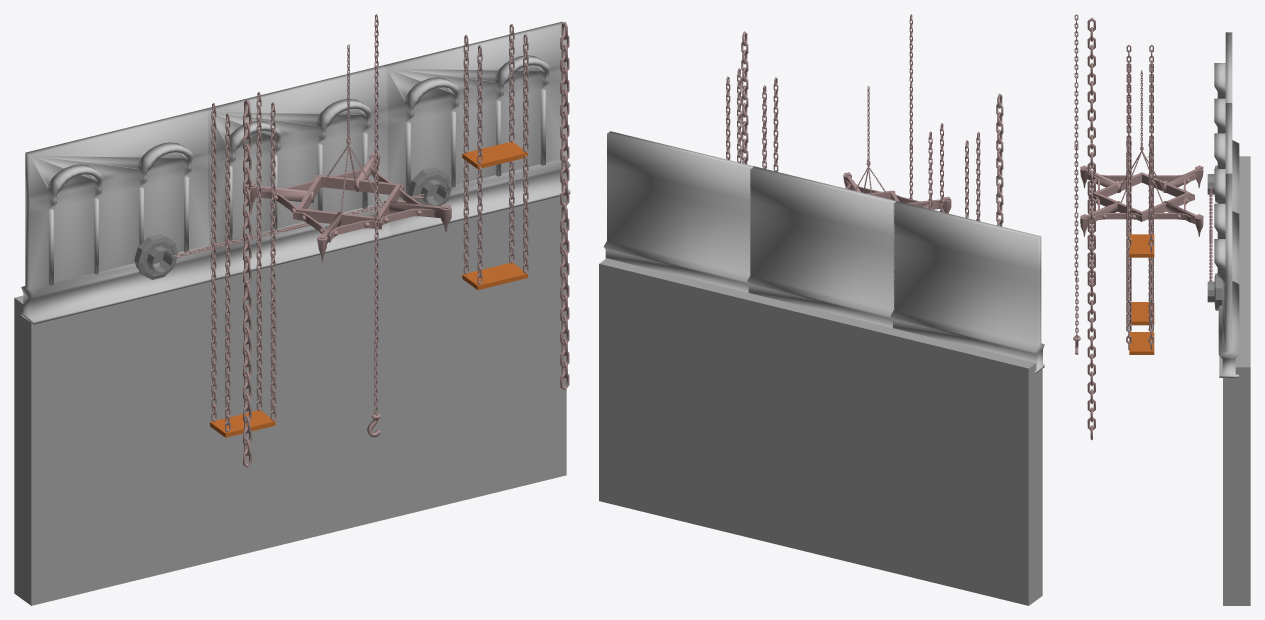
The model's file is Acid_pit_prop.fbx.
The picture shows the model from 3 angles, left to right: view 1: azimuth 30°, elevation 25°; view 2: azimuth 150°, elevation 25°; view 3: azimuth 270°, elevation 25°; orthographic projection. The views are drawn at different scales.
Parts seen in each view (by area): view 1: pCube1, Wall_prop1:polySurface1, polySurface32, polySurface31, polySurface1, polySurface14, polySurface28, polySurface13, Acid_pipe_prop:pCylinder1, polySurface17, polySurface16, polySurface15 (+2 smaller); view 2: pCube1, Wall_prop1:polySurface1, polySurface31, polySurface32, polySurface28, polySurface1, polySurface16, polySurface15; view 3: pCube1, polySurface1, polySurface32, Wall_prop1:polySurface1, polySurface31, polySurface28, polySurface13, polySurface17, polySurface16, polySurface15, polySurface14, pCylinder1 (+4 smaller).
Part boxes in pixels (left/top/right/bottom): pCube1: left=14, top=195, right=566, bottom=605; Wall_prop1:polySurface1: left=21, top=109, right=213, bottom=324; polySurface32: left=384, top=21, right=570, bottom=237; polySurface31: left=204, top=65, right=391, bottom=279; polySurface1: left=245, top=44, right=451, bottom=262; polySurface14: left=210, top=292, right=276, bottom=437; polySurface28: left=462, top=24, right=528, bottom=169; polySurface13: left=462, top=155, right=528, bottom=289; Acid_pipe_prop:pCylinder1: left=134, top=234, right=178, bottom=279; polySurface17: left=560, top=206, right=569, bottom=390; polySurface16: left=560, top=22, right=569, bottom=206; polySurface15: left=243, top=99, right=251, bottom=284; pCube1: left=599, top=258, right=1042, bottom=605; Wall_prop1:polySurface1: left=890, top=201, right=1044, bottom=373; polySurface31: left=747, top=166, right=896, bottom=327; polySurface32: left=603, top=131, right=753, bottom=292; polySurface28: left=726, top=68, right=778, bottom=171; polySurface1: left=843, top=86, right=951, bottom=213; polySurface16: left=741, top=31, right=748, bottom=164; polySurface15: left=996, top=93, right=1003, bottom=226; pCube1: left=1223, top=156, right=1250, bottom=605; polySurface1: left=1080, top=70, right=1203, bottom=236; polySurface32: left=1214, top=173, right=1239, bottom=377; Wall_prop1:polySurface1: left=1214, top=32, right=1239, bottom=213; polySurface31: left=1214, top=103, right=1239, bottom=283; polySurface28: left=1126, top=138, right=1154, bottom=257; polySurface13: left=1126, top=237, right=1154, bottom=354; polySurface17: left=1087, top=291, right=1095, bottom=440; polySurface16: left=1087, top=143, right=1095, bottom=291; polySurface15: left=1087, top=17, right=1095, bottom=157; polySurface14: left=1126, top=219, right=1154, bottom=325; pCylinder1: left=1207, top=273, right=1222, bottom=310.
Size of the model in its own units: 282 by 299 by 100.
